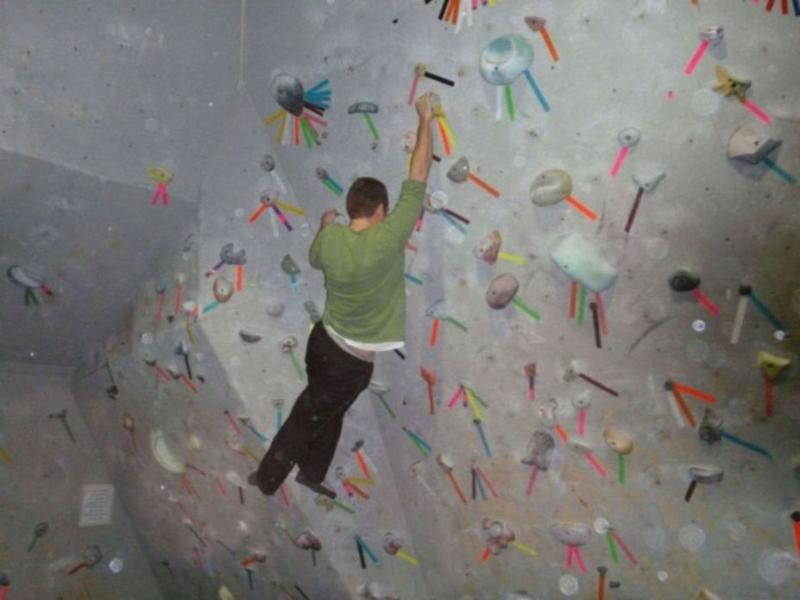person: (247, 94, 436, 494)
